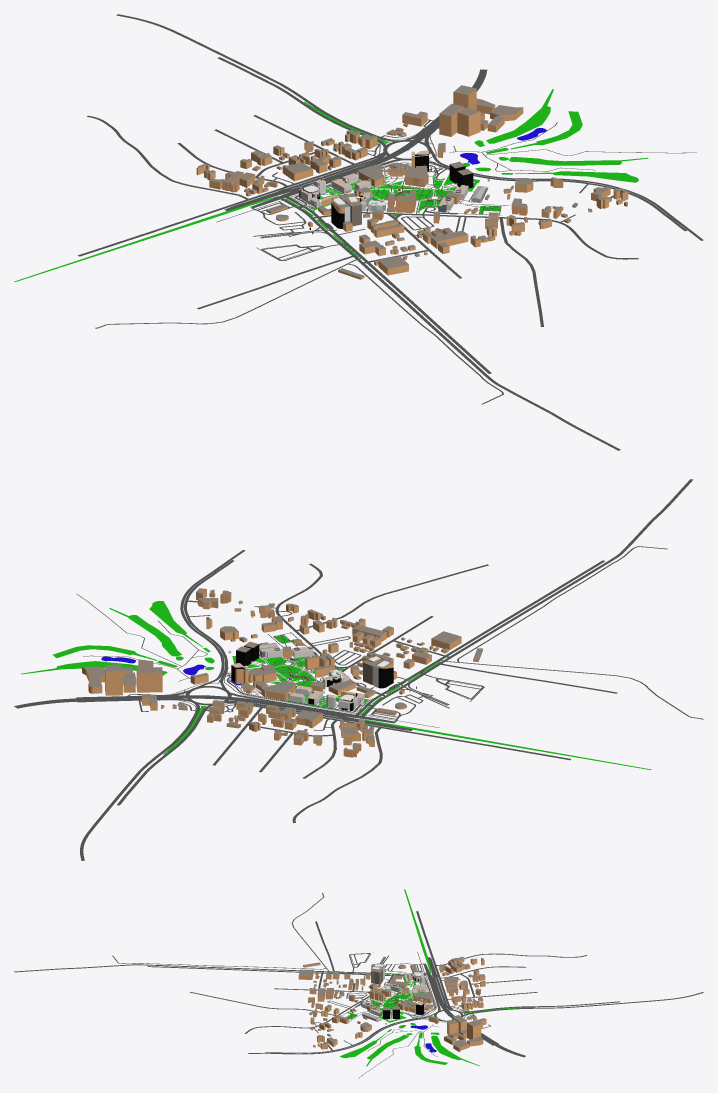
Rendered from ulima.fbx.
3 views of the same model, one above another, from view 1: azimuth 30°, elevation 25°; view 2: azimuth 150°, elevation 25°; view 3: azimuth 270°, elevation 25° (orthographic). The views are drawn at different scales.
Parts seen in each view (by area): view 1: map_2.osm_vegetation, map_2.osm_roads_secondary, map_2.osm_roads_service, map_2.osm_roads_residential, map_2.osm_paths_footway, map_2.osm_roads_motorway, map_2.osm_roads_tertiary, map_2.osm_roads_primary; view 2: map_2.osm_vegetation, map_2.osm_roads_secondary, map_2.osm_roads_service, map_2.osm_roads_residential, map_2.osm_paths_footway, map_2.osm_roads_motorway, map_2.osm_roads_tertiary, map_2.osm_roads_primary, map_2.osm_buildings.084; view 3: map_2.osm_vegetation, map_2.osm_roads_secondary, map_2.osm_roads_service, map_2.osm_roads_residential, map_2.osm_paths_footway, map_2.osm_roads_tertiary, map_2.osm_roads_motorway, map_2.osm_roads_primary.
Boxes of the visible parts, x1,y1,x2,y2 form: map_2.osm_vegetation: (14, 89, 648, 281); map_2.osm_roads_secondary: (78, 14, 620, 450); map_2.osm_roads_service: (95, 119, 588, 404); map_2.osm_roads_residential: (87, 115, 638, 326); map_2.osm_paths_footway: (216, 122, 696, 260); map_2.osm_roads_motorway: (225, 69, 487, 210); map_2.osm_roads_tertiary: (177, 143, 703, 240); map_2.osm_roads_primary: (224, 116, 439, 210); map_2.osm_vegetation: (21, 601, 651, 769); map_2.osm_roads_secondary: (80, 479, 692, 860); map_2.osm_roads_service: (126, 546, 703, 730); map_2.osm_roads_residential: (187, 563, 488, 823); map_2.osm_paths_footway: (76, 594, 484, 727); map_2.osm_roads_motorway: (14, 695, 412, 730); map_2.osm_roads_tertiary: (180, 550, 336, 778); map_2.osm_roads_primary: (76, 686, 407, 730); map_2.osm_buildings.084: (136, 667, 162, 692); map_2.osm_vegetation: (331, 889, 539, 1066); map_2.osm_roads_secondary: (14, 911, 703, 1016); map_2.osm_roads_service: (112, 893, 490, 1045); map_2.osm_roads_residential: (189, 953, 587, 1050); map_2.osm_paths_footway: (341, 952, 472, 1078); map_2.osm_roads_tertiary: (248, 966, 526, 1054); map_2.osm_roads_motorway: (423, 957, 525, 1057); map_2.osm_roads_primary: (424, 958, 498, 1045).
Bounding box in the file's own units: 162690 × 6140 × 250470.
